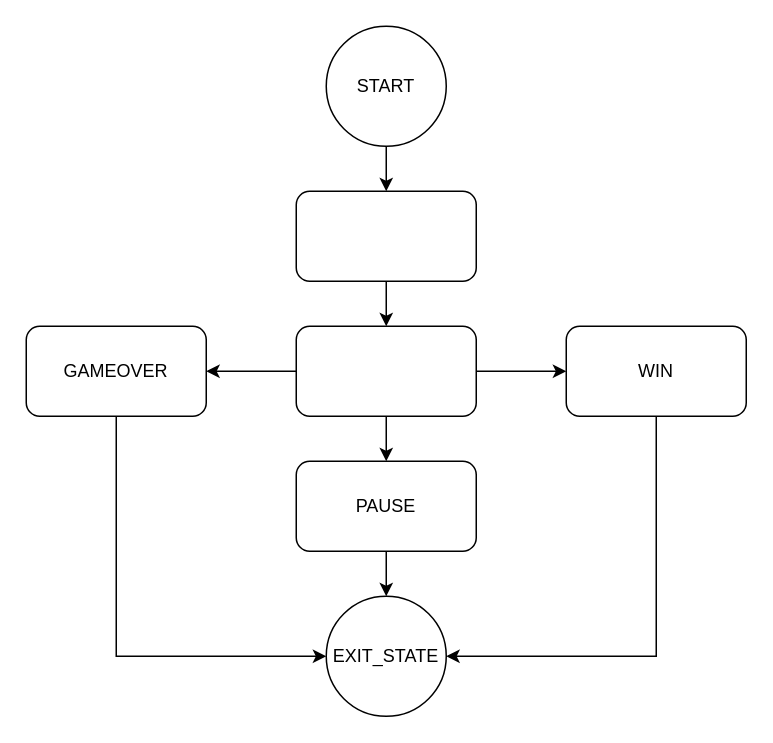
This 773x743 diagram has some shape labels left out. The box of each missing label's shape, as (x1, y1, x2, y2) in pixels:
MOVING: (295, 325, 476, 416)
SPAWN: (295, 190, 476, 281)
